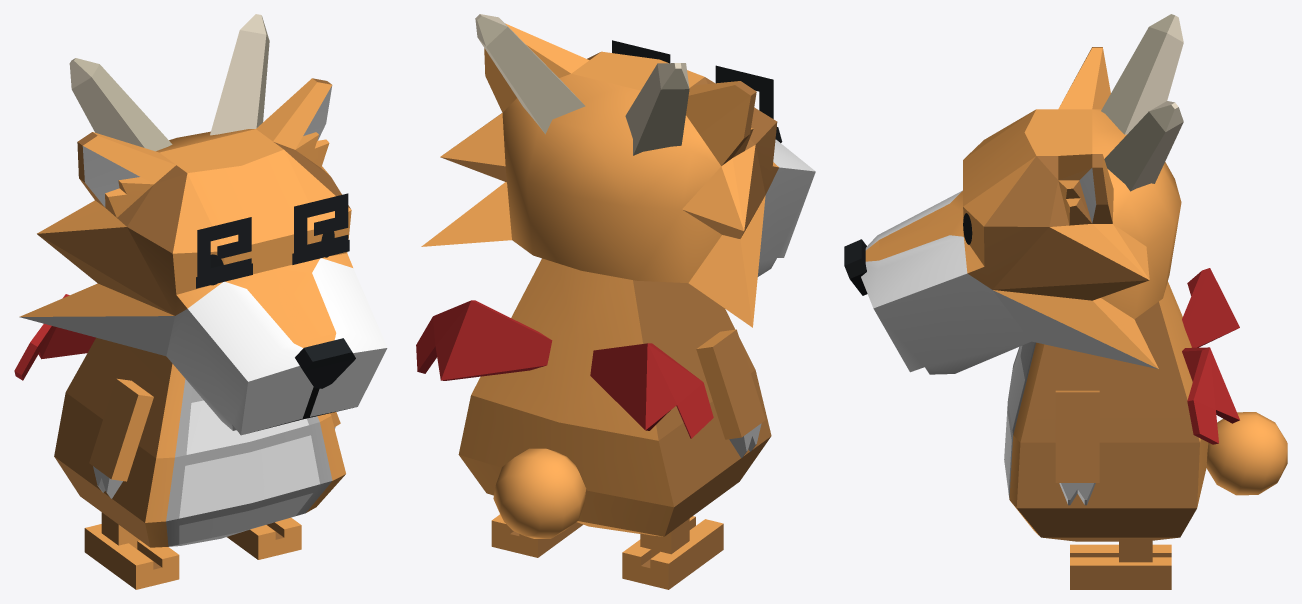
3 views of the same model, side by side, from view 1: azimuth 30°, elevation 25°; view 2: azimuth 150°, elevation 25°; view 3: azimuth 270°, elevation 25° (orthographic). The views are drawn at different scales.
Parts seen in each view (by area): view 1: Ch_242_Head, Ch_242, Ch_242_Arm_L, Ch_242_Leg_L, Ch_242_Eye_03_R, Ch_242_Eye_03_L, Ch_242_Leg_R, Ch_242_Eye_02; view 2: Ch_242_Head, Ch_242, Ch_242_Arm_L, Ch_242_Leg_L, Ch_242_Leg_R, Ch_242_Eye_03_L, Ch_242_Eye_03_R; view 3: Ch_242_Head, Ch_242, Ch_242_Leg_R, Ch_242_Arm_R.
Part boxes in pixels (x1,y1,x2,y2): Ch_242_Head: [19, 14, 387, 435]; Ch_242: [14, 294, 345, 547]; Ch_242_Arm_L: [89, 378, 153, 498]; Ch_242_Leg_L: [84, 512, 179, 589]; Ch_242_Eye_03_R: [294, 193, 348, 253]; Ch_242_Eye_03_L: [197, 217, 251, 276]; Ch_242_Leg_R: [227, 517, 301, 559]; Ch_242_Eye_02: [196, 240, 349, 288]; Ch_242_Head: [421, 14, 815, 327]; Ch_242: [416, 258, 771, 538]; Ch_242_Arm_L: [696, 329, 765, 457]; Ch_242_Leg_L: [622, 516, 723, 589]; Ch_242_Leg_R: [491, 514, 583, 557]; Ch_242_Eye_03_L: [715, 65, 773, 118]; Ch_242_Eye_03_R: [612, 40, 670, 63]; Ch_242_Head: [844, 14, 1183, 374]; Ch_242: [1004, 268, 1287, 541]; Ch_242_Leg_R: [1070, 538, 1171, 589]; Ch_242_Arm_R: [1055, 390, 1099, 505].
Size of the model in its own units: 7.99 by 12.2 by 9.98.
